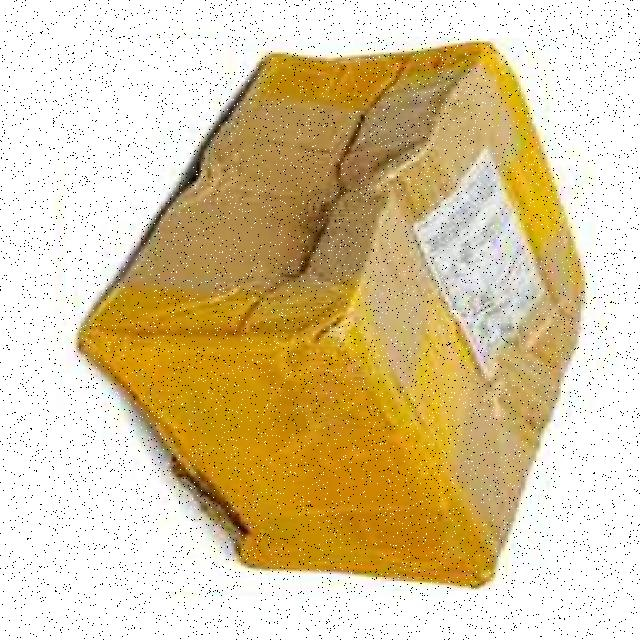defect: (66, 38, 596, 591)
